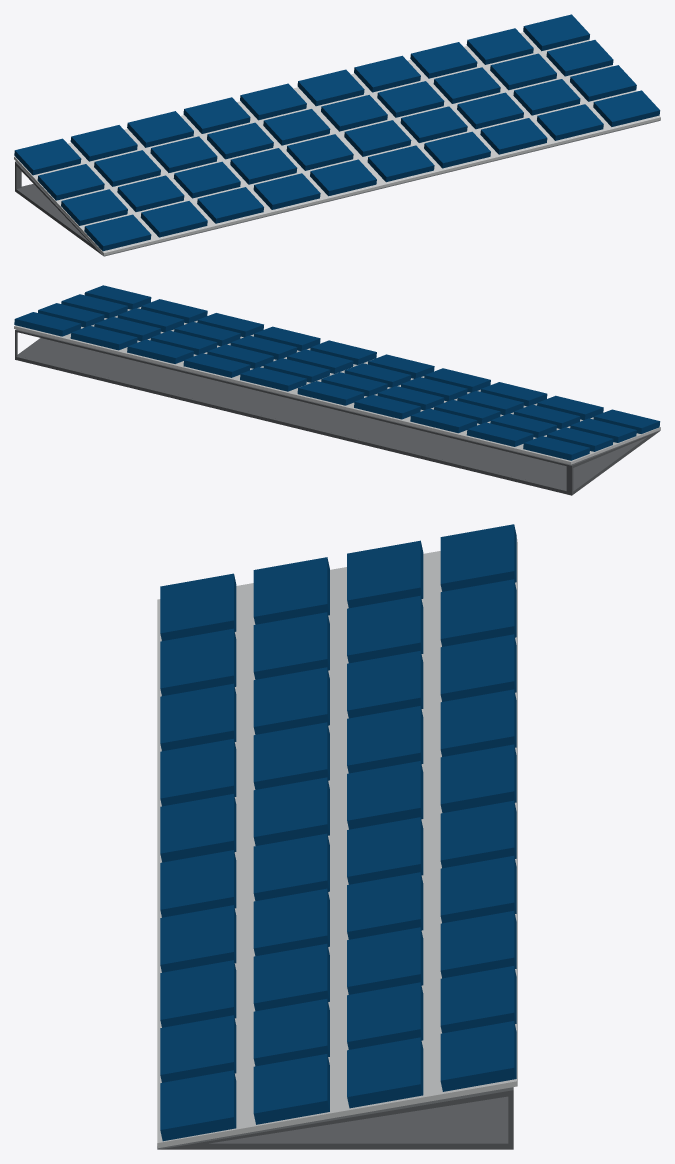
Rendered from solar-panel-4x10-small.glb.
3 views of the same model, one above another, from view 1: azimuth 30°, elevation 25°; view 2: azimuth 150°, elevation 25°; view 3: azimuth 270°, elevation 25° (orthographic). The views are drawn at different scales.
Parts seen in each view (by area): view 1: Mesh_Mesh_head_geo.001_lambert2SG.001; view 2: Mesh_Mesh_head_geo.001_lambert2SG.001; view 3: Mesh_Mesh_head_geo.001_lambert2SG.001.
Part boxes in pixels (bbox=[...]): Mesh_Mesh_head_geo.001_lambert2SG.001: bbox=[14, 14, 660, 256]; Mesh_Mesh_head_geo.001_lambert2SG.001: bbox=[14, 285, 660, 495]; Mesh_Mesh_head_geo.001_lambert2SG.001: bbox=[157, 524, 517, 1149].
Bounding box in the file's own units: 305 × 21.47 × 85.39.
